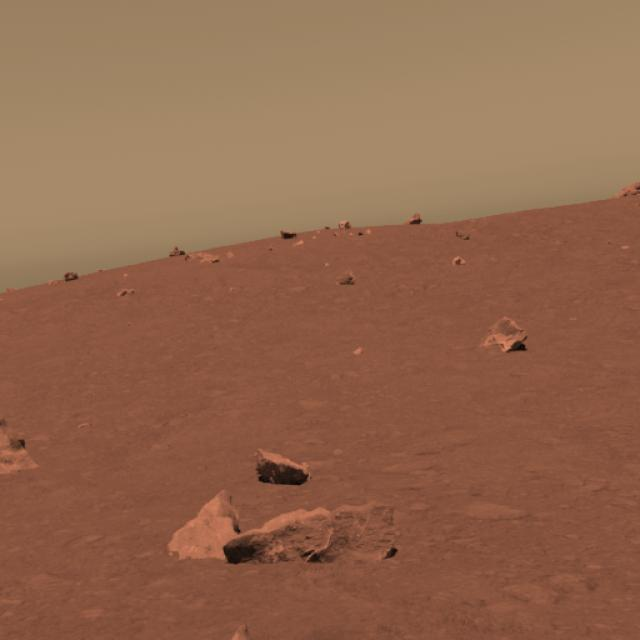rock: (224, 484, 403, 576), (156, 485, 256, 577), (474, 302, 530, 364)
